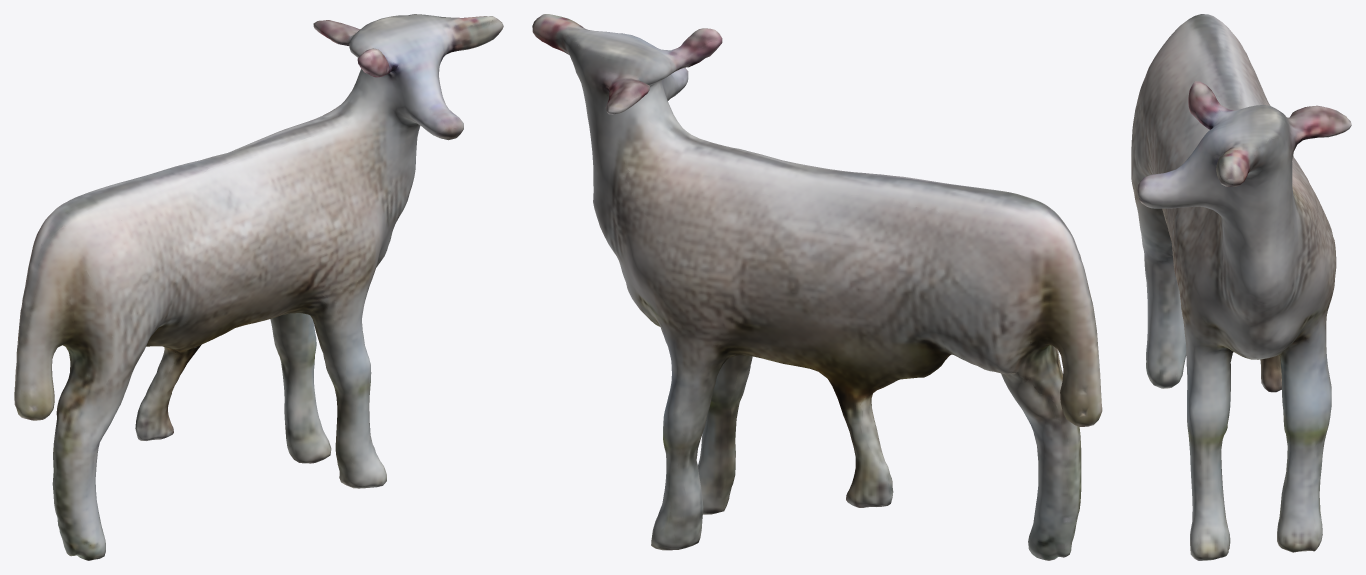
The model's file is joven.glb.
The picture shows the model from 3 angles, left to right: view 1: azimuth 30°, elevation 25°; view 2: azimuth 150°, elevation 25°; view 3: azimuth 270°, elevation 25°; orthographic projection. The views are drawn at different scales.
Visible parts, largest first — view 1: mesh; view 2: mesh; view 3: mesh.
Boxes of the visible parts, <box> form: mesh: <box>14,14,503,560</box>; mesh: <box>532,14,1102,560</box>; mesh: <box>1131,14,1351,560</box>.
Bounding box in the file's own units: 1.59 × 1.32 × 0.5589.
1 material, 1 textured.
